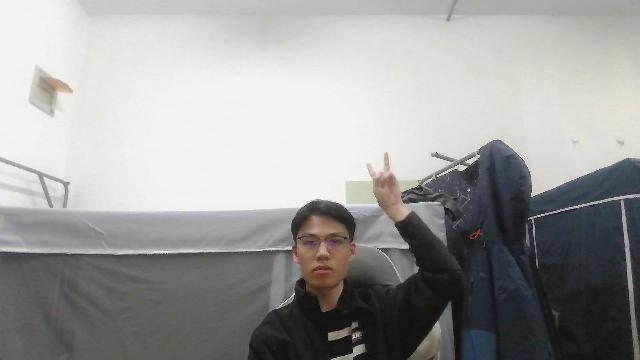yes: (362, 148, 405, 218)
